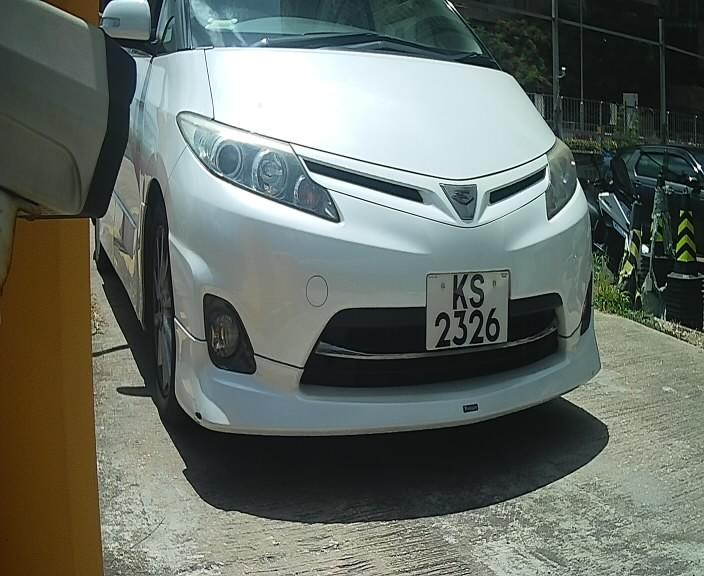Car: (79, 19, 607, 481)
License Plate: (419, 260, 513, 361)
